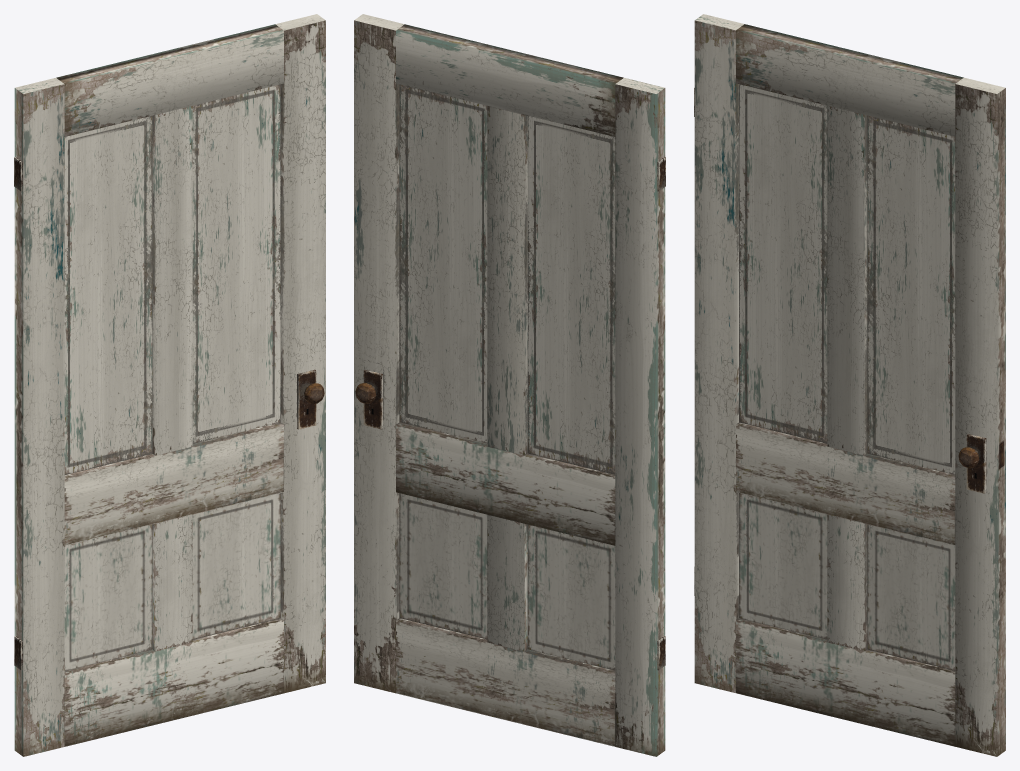
File: wooddoor01a.obj
3 views of the same model, side by side, from view 1: azimuth 30°, elevation 25°; view 2: azimuth 150°, elevation 25°; view 3: azimuth 330°, elevation 25° (orthographic).
Visible parts, largest first — view 1: LODGroup_1_MainMesh_1_Submesh_1; view 2: LODGroup_1_MainMesh_1_Submesh_1; view 3: LODGroup_1_MainMesh_1_Submesh_1.
Boxes of the visible parts, x1,y1,x2,y2 form: LODGroup_1_MainMesh_1_Submesh_1: (14, 14, 325, 756); LODGroup_1_MainMesh_1_Submesh_1: (354, 14, 665, 756); LODGroup_1_MainMesh_1_Submesh_1: (694, 14, 1005, 756).
Size of the model in its own units: 100 by 209 by 18.05.
Materials: 1 (1 with a texture image).
